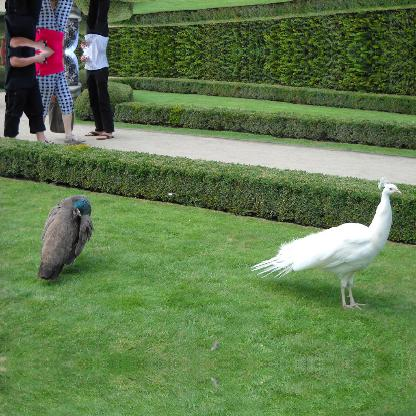Bird: (249, 174, 403, 312), (35, 189, 95, 283)
